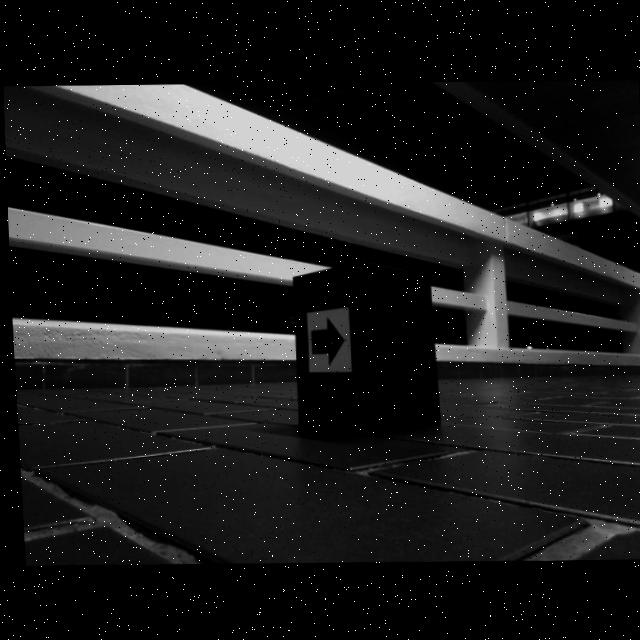RIGHT: (308, 317, 344, 363)
